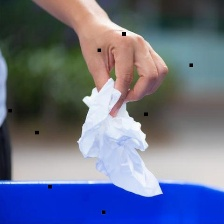plastic_box: (0, 174, 224, 224)
tissue: (71, 74, 168, 201)
